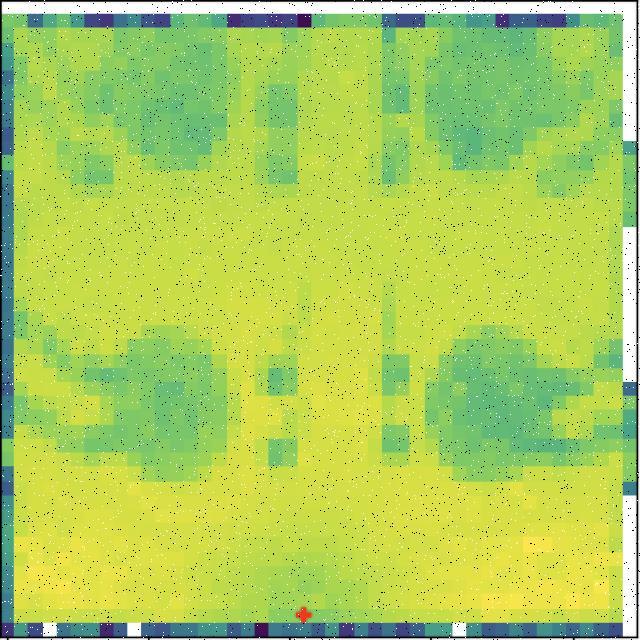Concrete: (417, 319, 600, 481)
Glass: (420, 31, 586, 176)
Metal: (72, 317, 240, 486)
Wood: (70, 31, 242, 184)
